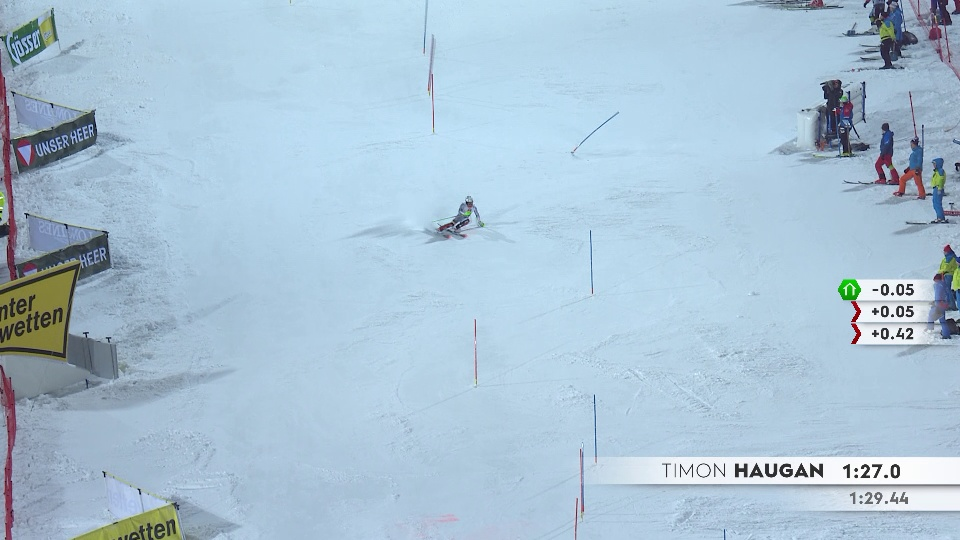goesser: (1, 12, 62, 67)
interwetten: (1, 281, 74, 355)
unserheer: (21, 120, 98, 165), (24, 243, 101, 288)
